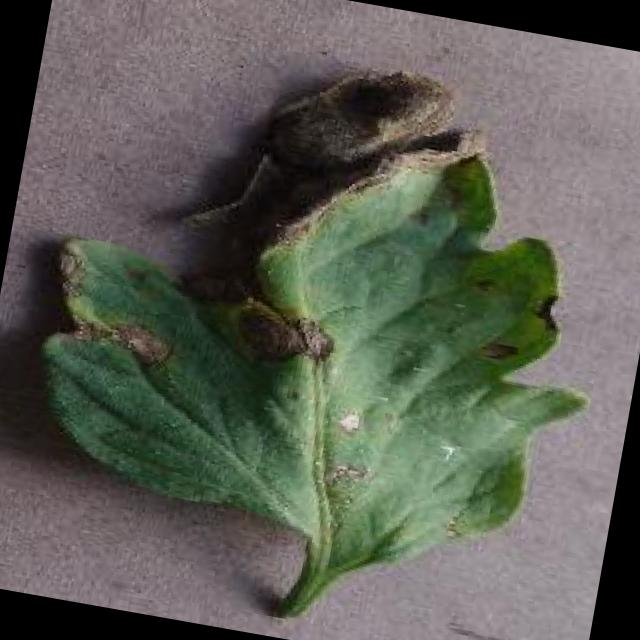Tomato_Early_Blight: (29, 10, 513, 439)
